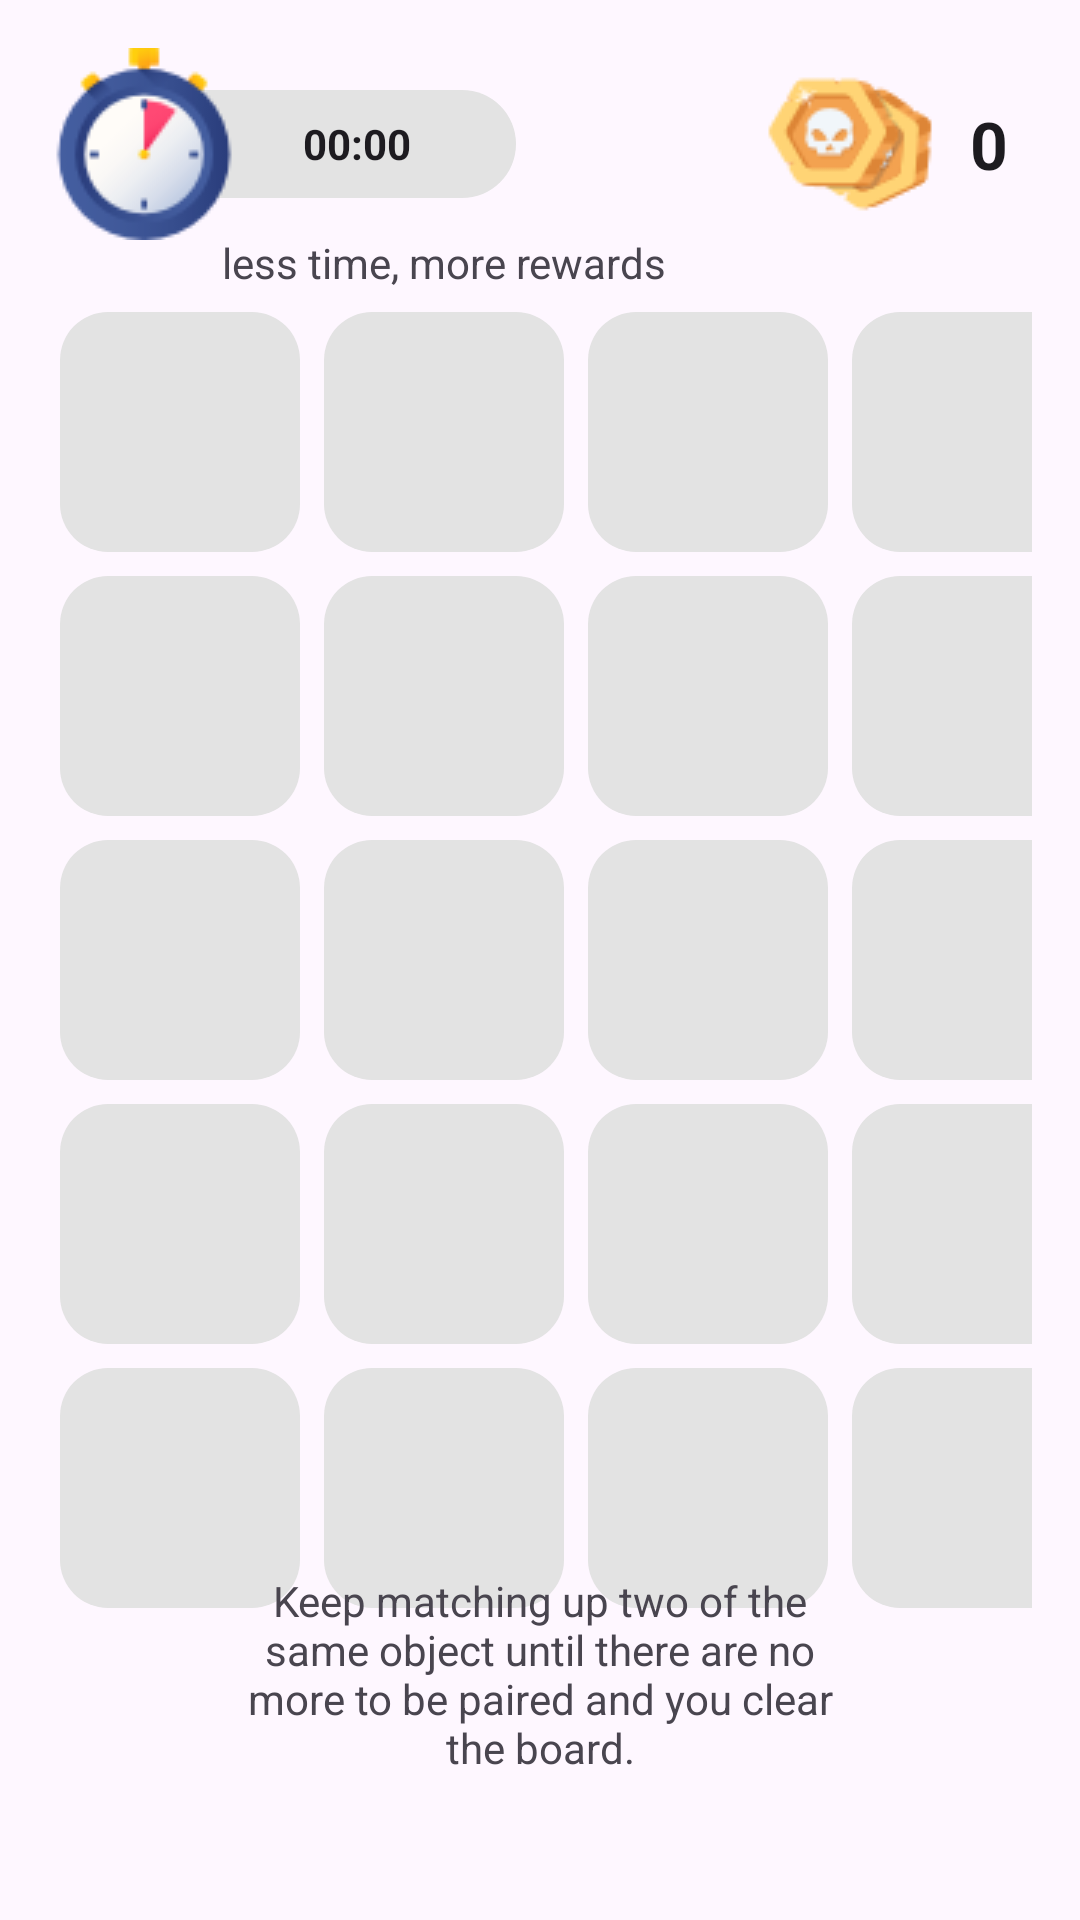

Named icons in this screenshot (1080px×1920px) and their bounding boxes, rect(x1, y1, x2, y2):
Coins rewards image: rect(768, 78, 932, 210)
Timer icon: rect(56, 48, 240, 240)
